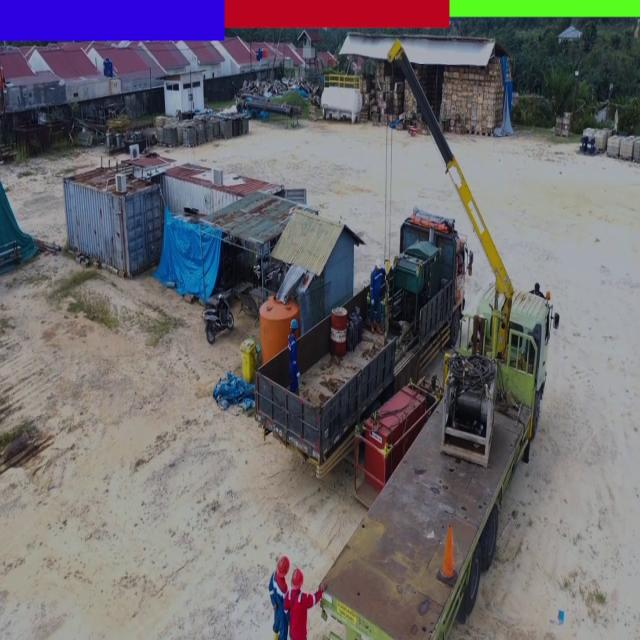Hardhat: (277, 553, 290, 577), (291, 569, 304, 588), (373, 258, 384, 274), (290, 317, 301, 331)
No Glove: (319, 577, 328, 591)
No Overall Suit: (284, 588, 323, 640), (286, 332, 300, 396), (371, 273, 383, 322)
Overall Suit: (270, 574, 288, 636)
Safety Boots: (376, 326, 383, 340), (369, 323, 375, 339)
